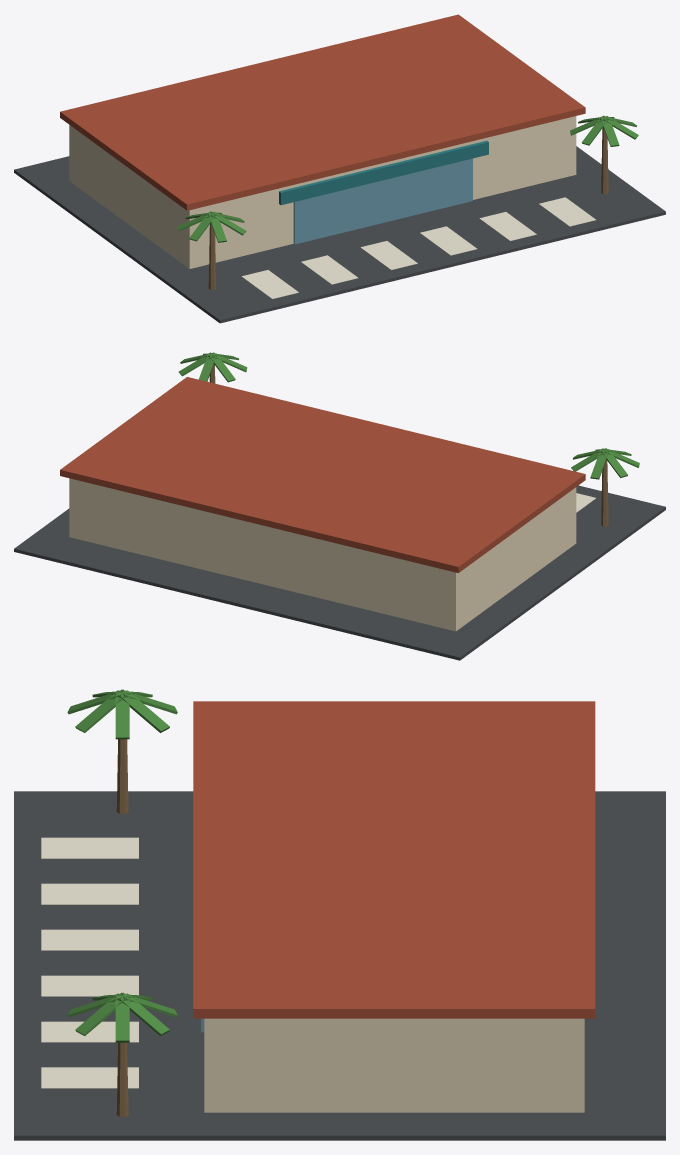
The model's file is mall.glb.
3 views of the same model, one above another, from view 1: azimuth 30°, elevation 25°; view 2: azimuth 150°, elevation 25°; view 3: azimuth 270°, elevation 25° (orthographic). The views are drawn at different scales.
Visible parts, largest first — view 1: mall_roof_red, mall_asphalt, mall_cream, mall_glass, mall_lane, mall_teal, mall_leaf, mall_trunk; view 2: mall_roof_red, mall_cream, mall_asphalt, mall_leaf, mall_trunk; view 3: mall_roof_red, mall_asphalt, mall_cream, mall_lane, mall_leaf, mall_trunk.
Part boxes in pixels (x1,y1,x2,y2): mall_roof_red: [60, 14, 585, 210]; mall_asphalt: [14, 146, 665, 323]; mall_cream: [69, 116, 576, 268]; mall_glass: [293, 158, 472, 244]; mall_lane: [241, 197, 595, 298]; mall_teal: [279, 140, 488, 205]; mall_leaf: [177, 115, 638, 242]; mall_trunk: [208, 127, 608, 289]; mall_roof_red: [60, 377, 585, 572]; mall_cream: [69, 478, 576, 631]; mall_asphalt: [14, 485, 665, 660]; mall_leaf: [178, 352, 639, 479]; mall_trunk: [209, 364, 608, 526]; mall_roof_red: [193, 701, 595, 1018]; mall_asphalt: [14, 791, 665, 1140]; mall_cream: [204, 1018, 584, 1112]; mall_lane: [41, 837, 138, 1088]; mall_leaf: [67, 689, 177, 1042]; mall_trunk: [116, 739, 128, 1116].
Size of the model in its own units: 152 by 25.27 by 120.
